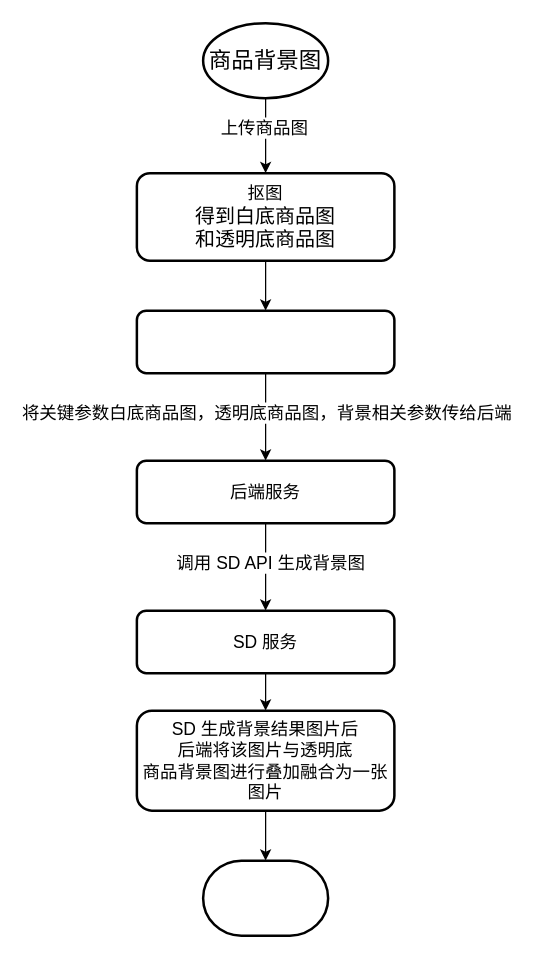
Some shapes in this 533 by 958 pixel diagram are drawn without their labels. Each missing label, with the centre of its shape:
"结束" goes at [265,897].
"选择预设场景得到 Prompt" goes at [265,341].
